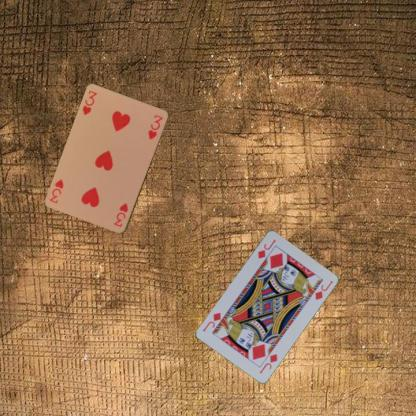3h: (111, 200, 129, 229), (80, 88, 98, 117)
Jd: (256, 236, 278, 260), (257, 351, 279, 374)
